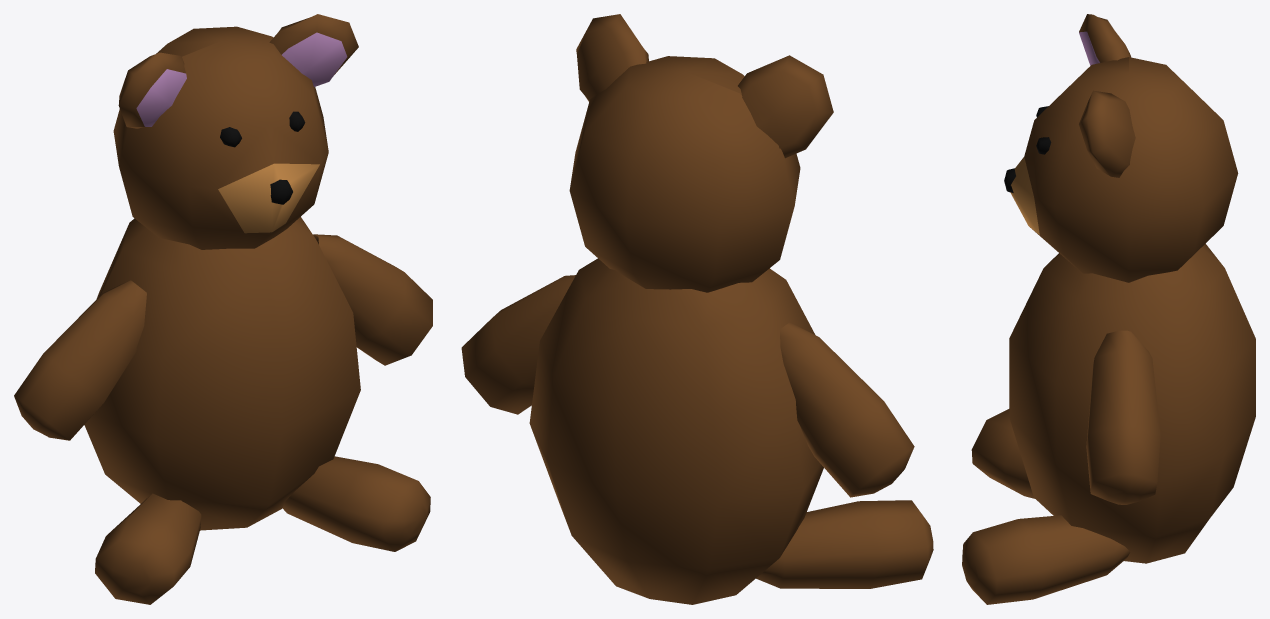
The model's file is House_KidsRoom_TeddyBear.FBX.
The picture shows the model from 3 angles, left to right: view 1: azimuth 30°, elevation 25°; view 2: azimuth 150°, elevation 25°; view 3: azimuth 270°, elevation 25°; orthographic projection. The views are drawn at different scales.
Parts seen in each view (by area): view 1: House_KidsRoom_teddyBear; view 2: House_KidsRoom_teddyBear; view 3: House_KidsRoom_teddyBear.
Part boxes in pixels (bbox=[...]): House_KidsRoom_teddyBear: bbox=[14, 14, 432, 604]; House_KidsRoom_teddyBear: bbox=[461, 14, 933, 604]; House_KidsRoom_teddyBear: bbox=[962, 14, 1255, 604].
Size of the model in its own units: 39.92 by 46.35 by 24.89.
